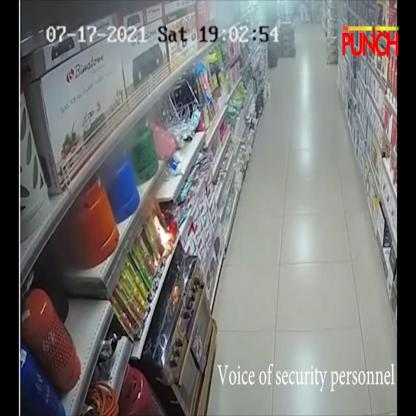fire: (154, 214, 170, 245)
